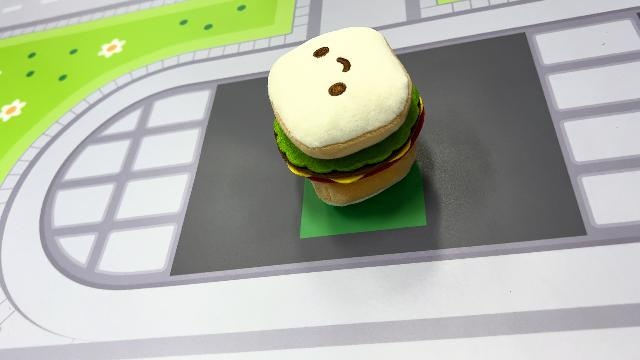sandwich: (264, 24, 428, 208)
